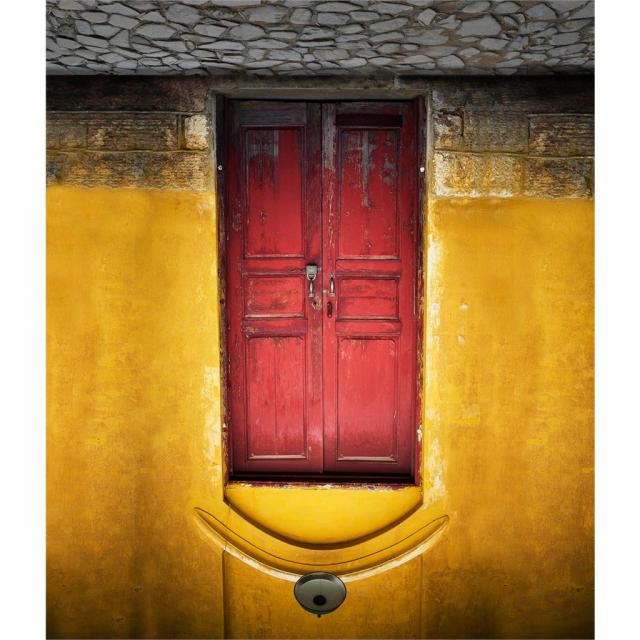close: (221, 110, 421, 478)
